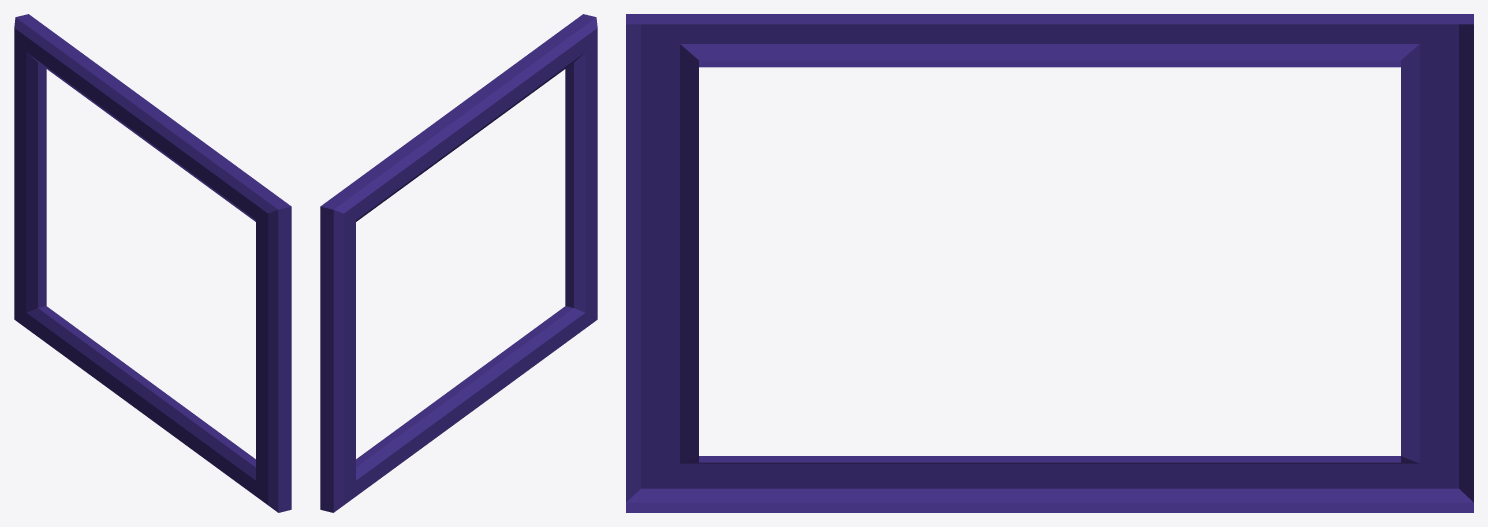
The model's file is picture frame.glb.
3 renders of one model, left to right at view 1: azimuth 30°, elevation 25°; view 2: azimuth 150°, elevation 25°; view 3: azimuth 270°, elevation 25°, orthographic. The views are drawn at different scales.
Parts seen in each view (by area): view 1: Painting Frame; view 2: Painting Frame; view 3: Painting Frame.
Boxes of the visible parts, x1,y1,x2,y2 form: Painting Frame: (14,14,291,512); Painting Frame: (320,14,597,512); Painting Frame: (626,14,1473,512).
Size of the model in its own units: 0.2475 by 3.78 by 5.95.
